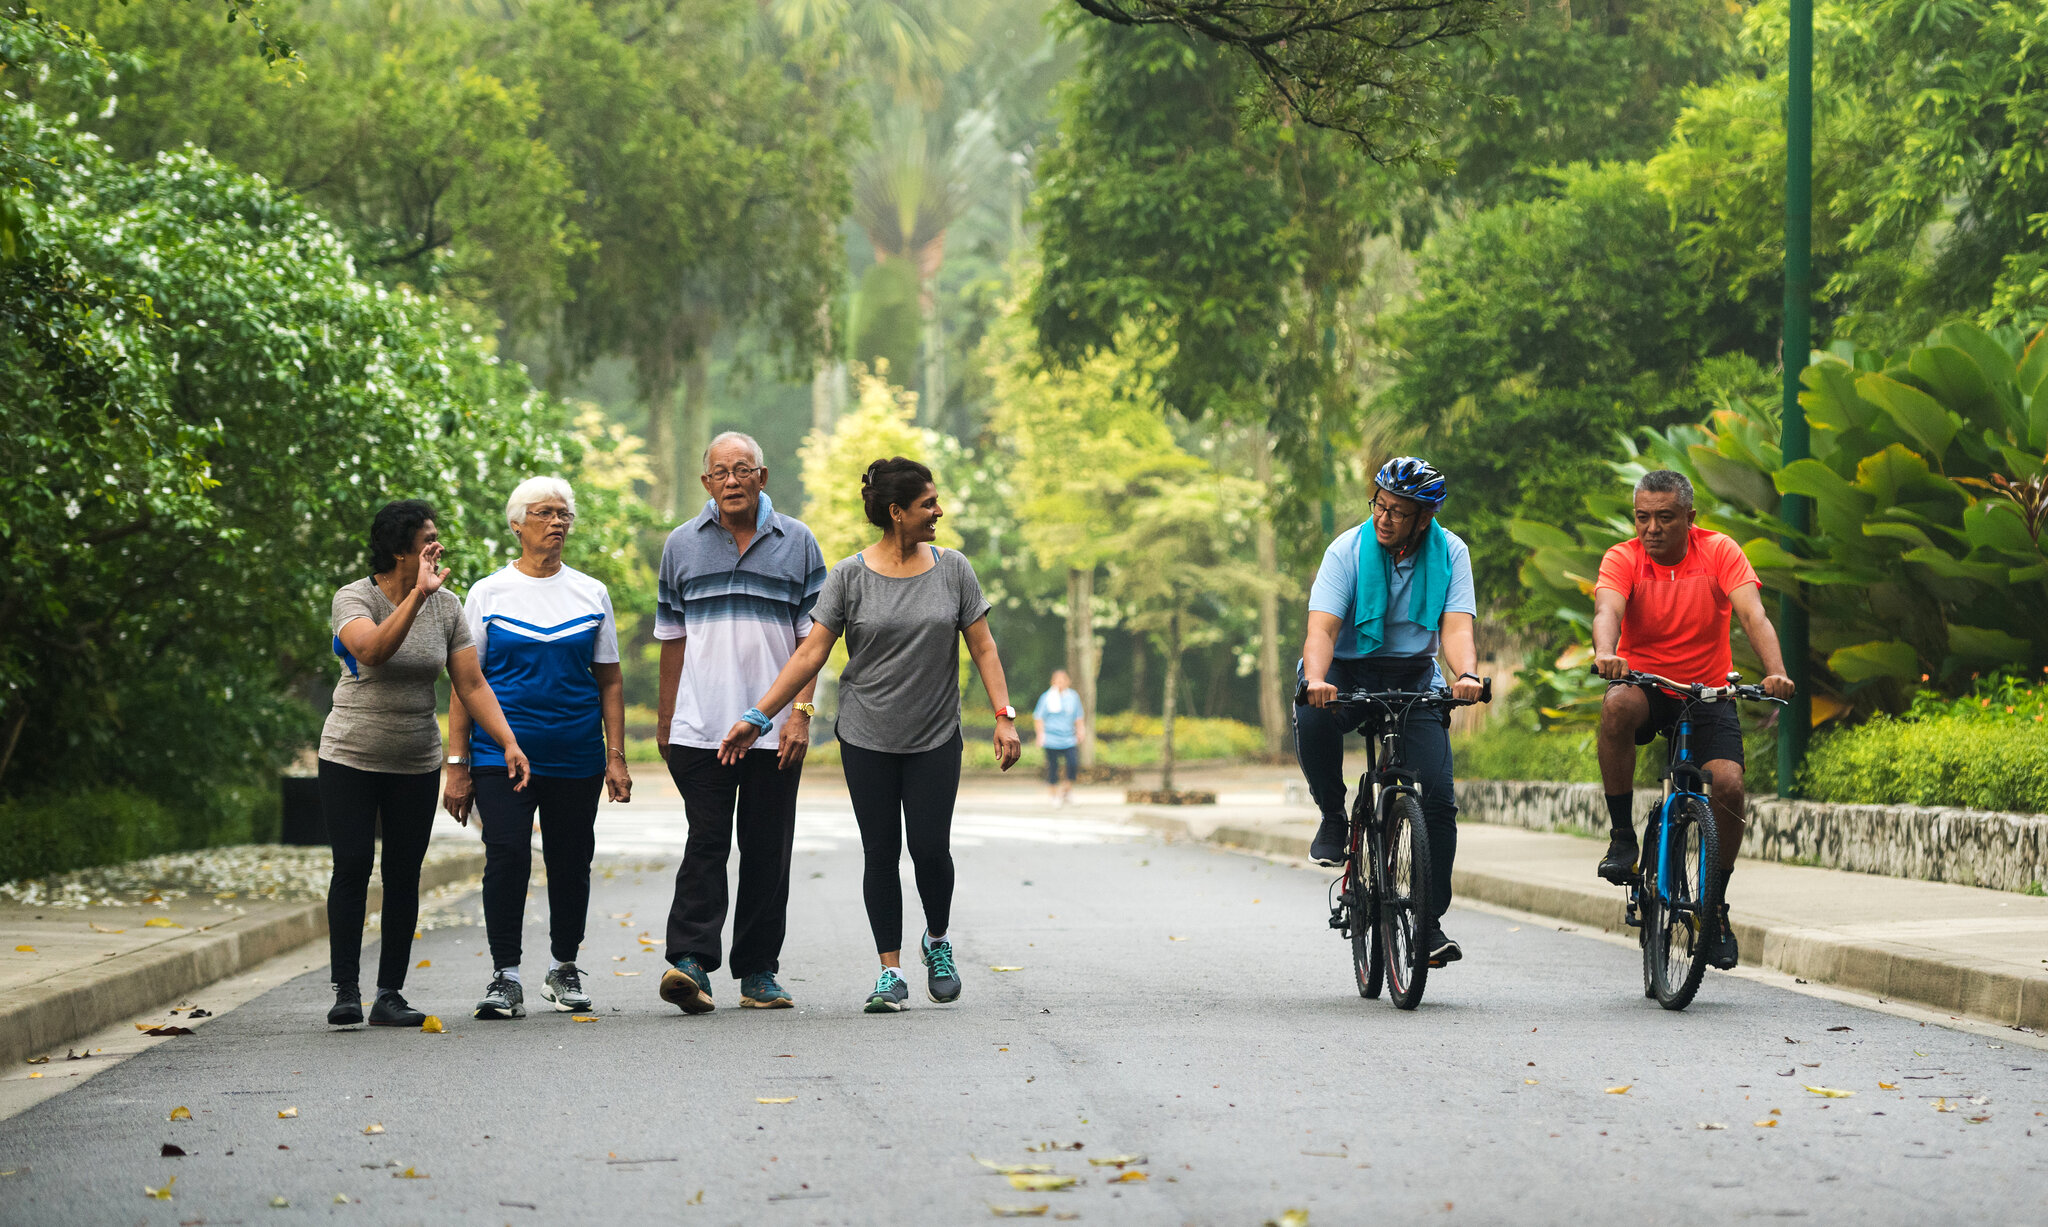person: (648, 425, 832, 1018), (443, 469, 639, 1022), (827, 456, 1019, 1017), (1594, 469, 1787, 963), (1293, 482, 1475, 966)
